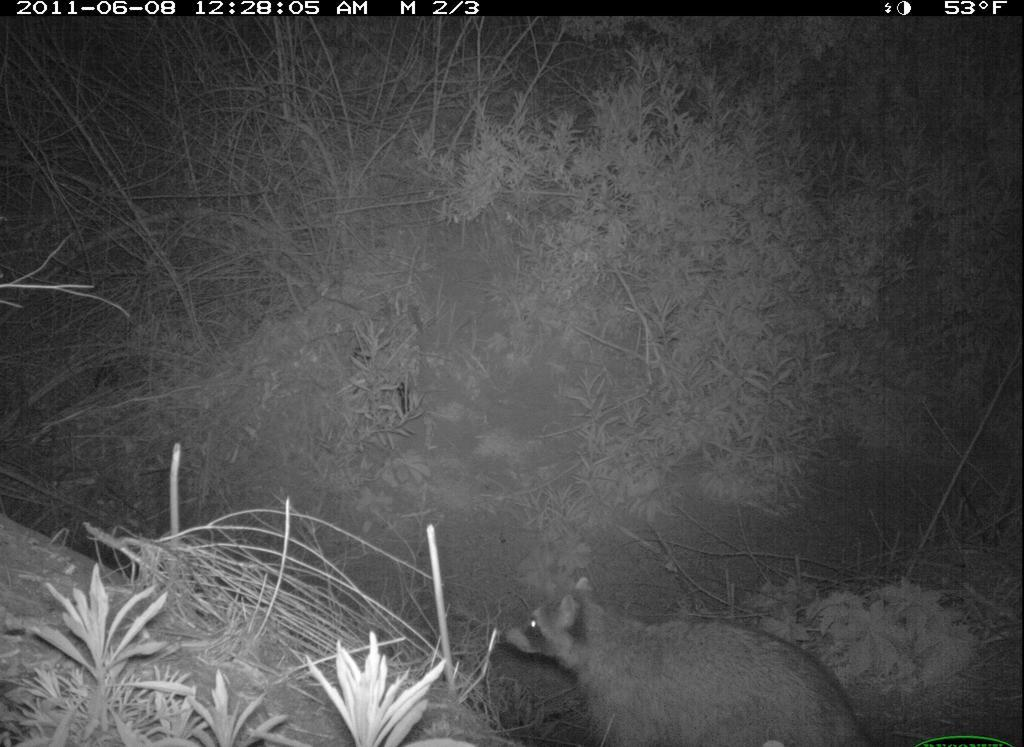raccoon: (482, 561, 866, 747)
